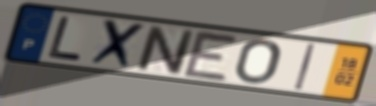E: (180, 28, 242, 83)
I: (292, 41, 319, 92)
L: (46, 15, 86, 63)
N: (134, 23, 196, 78)
O: (232, 37, 284, 86)
X: (85, 17, 149, 73)
